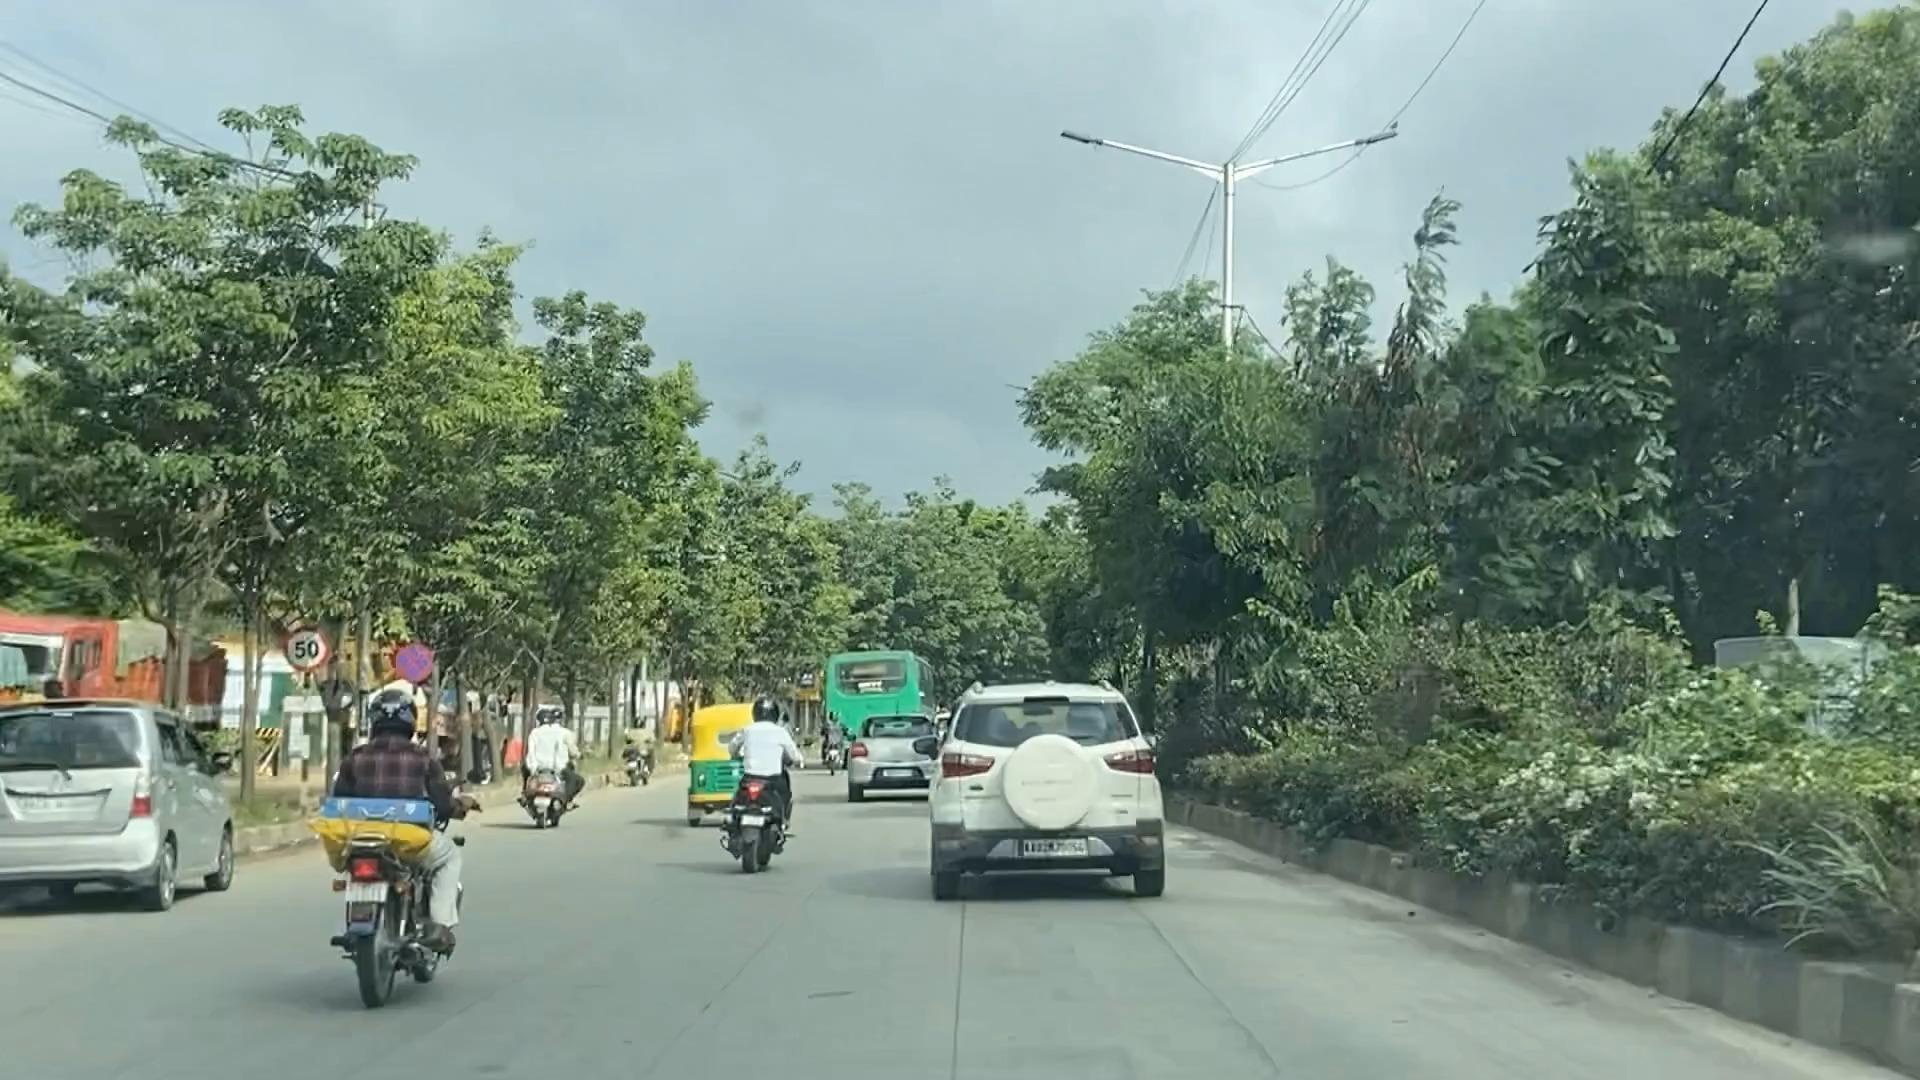LMV: (0, 651, 264, 1002), (903, 632, 1203, 923), (314, 665, 492, 1010), (509, 674, 624, 878), (713, 676, 815, 881)
